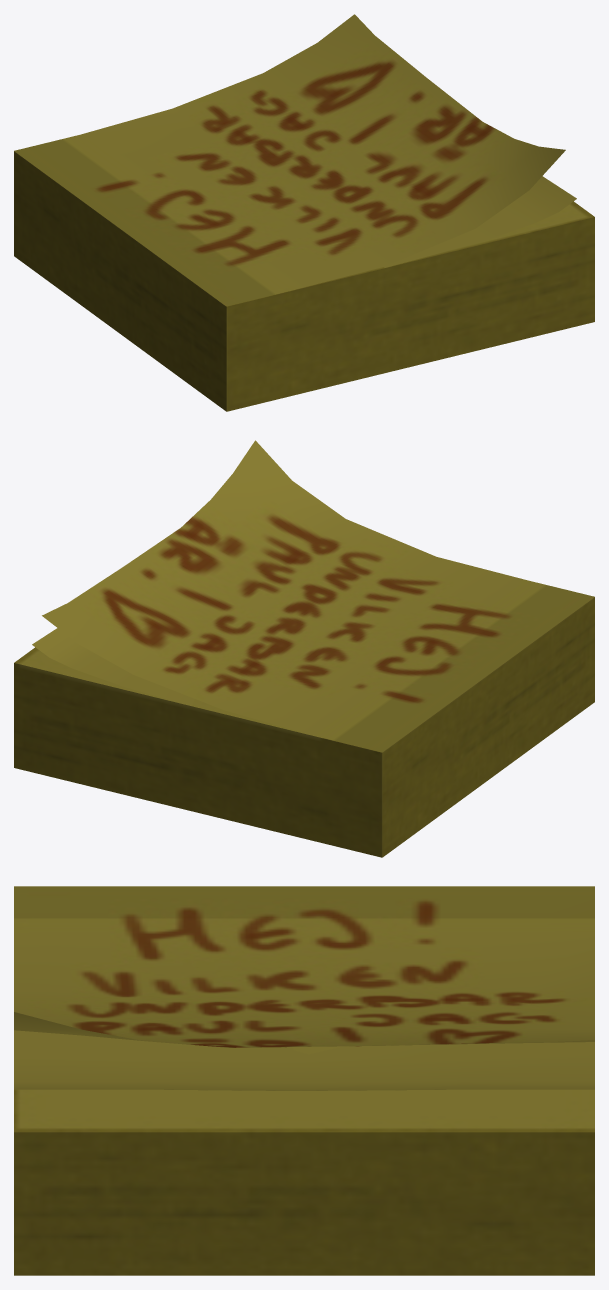
File: post-it_stack.fbx
3 renders of one model, top to bottom at view 1: azimuth 30°, elevation 25°; view 2: azimuth 150°, elevation 25°; view 3: azimuth 270°, elevation 25°, orthographic. The views are drawn at different scales.
Visible parts, largest first — view 1: pCube2; view 2: pCube2; view 3: pCube2.
Part boxes in pixels (<box>): pCube2: <box>14,14,594,411</box>; pCube2: <box>14,440,594,857</box>; pCube2: <box>14,886,594,1275</box>.
Bounding box in the file's own units: 2.86 × 1.33 × 2.86.
